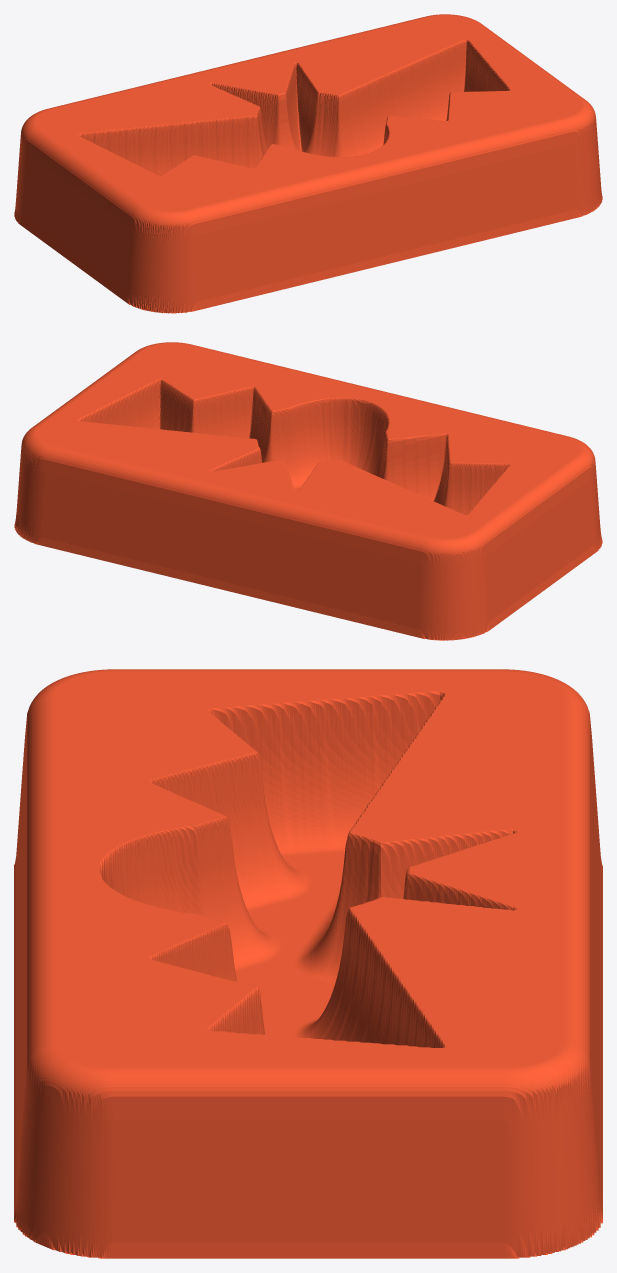
Rendered from mold.glb.
The picture shows the model from 3 angles, top to bottom: view 1: azimuth 30°, elevation 25°; view 2: azimuth 150°, elevation 25°; view 3: azimuth 270°, elevation 25°; orthographic projection. The views are drawn at different scales.
Parts seen in each view (by area): view 1: geometry_0; view 2: geometry_0; view 3: geometry_0.
Part boxes in pixels (<box>): geometry_0: <box>14,14,602,313</box>; geometry_0: <box>14,342,602,640</box>; geometry_0: <box>14,669,602,1258</box>.
Size of the model in its own units: 0.0924 by 0.0175 by 0.0536.
